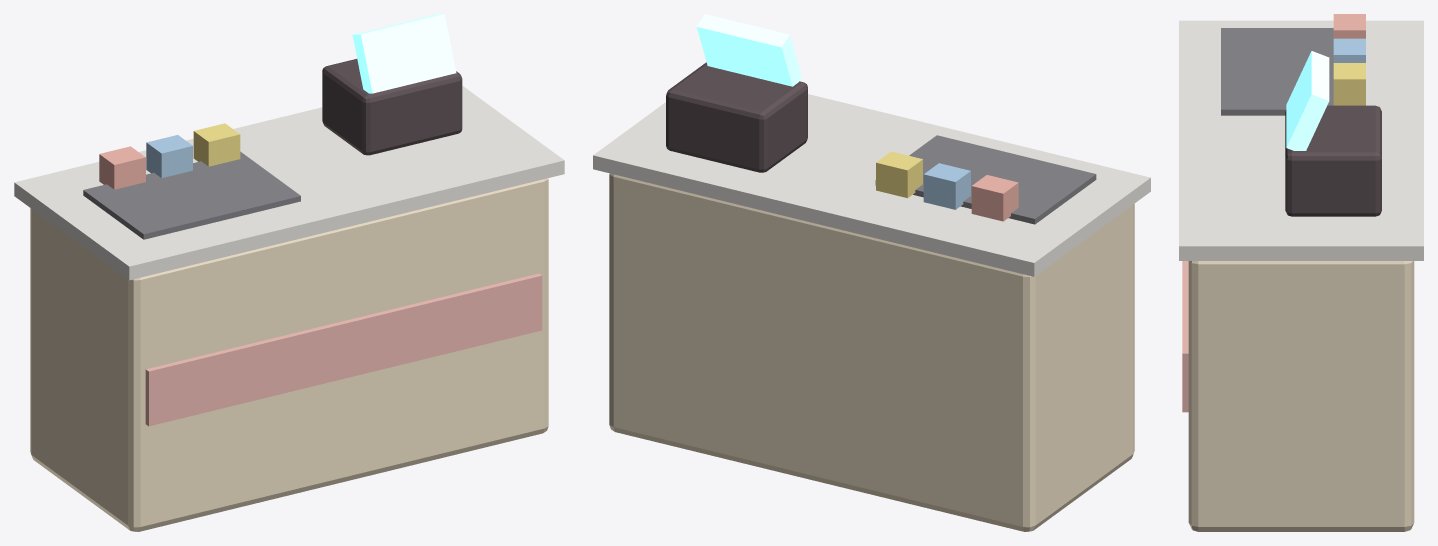
File: caixa_mercado.glb
3 views of the same model, side by side, from view 1: azimuth 30°, elevation 25°; view 2: azimuth 150°, elevation 25°; view 3: azimuth 270°, elevation 25° (orthographic). The views are drawn at different scales.
Parts seen in each view (by area): view 1: caixa_mercado; view 2: caixa_mercado; view 3: caixa_mercado.
Part boxes in pixels (<box>): caixa_mercado: <box>14,14,564,531</box>; caixa_mercado: <box>593,14,1150,531</box>; caixa_mercado: <box>1179,14,1423,531</box>.
Bounding box in the file's own units: 1.66 × 1.42 × 0.76.
